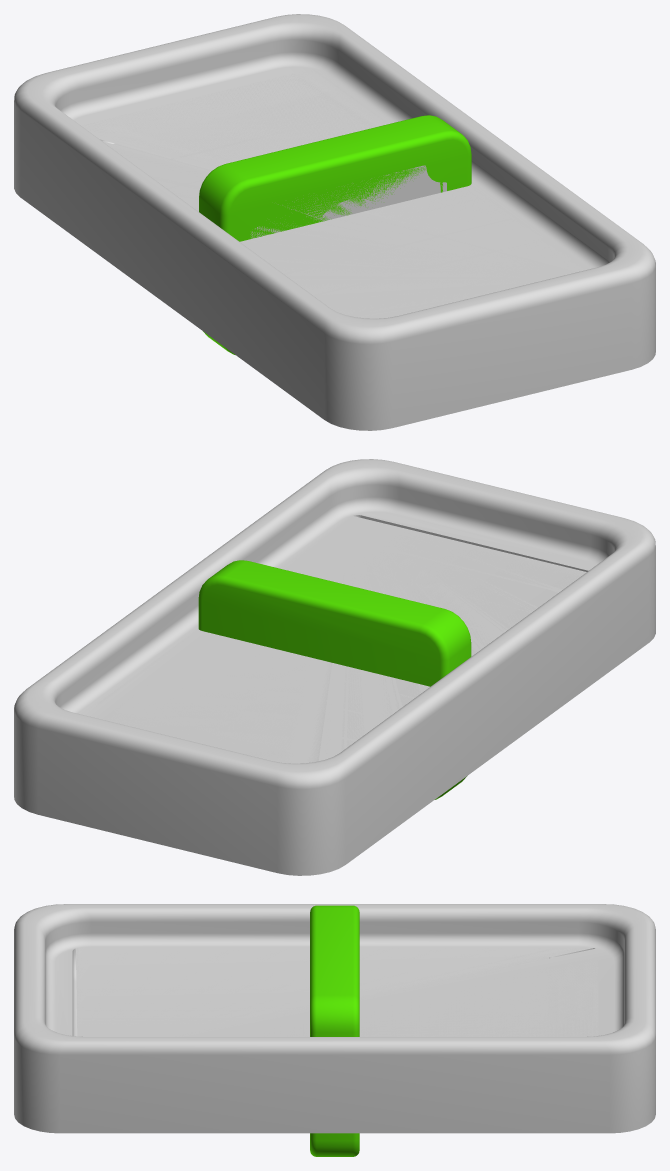
The model's file is MoneySort.fbx.
The picture shows the model from 3 angles, top to bottom: view 1: azimuth 30°, elevation 25°; view 2: azimuth 150°, elevation 25°; view 3: azimuth 270°, elevation 25°; orthographic projection. The views are drawn at different scales.
Parts seen in each view (by area): view 1: Cart, Cash, Sticker; view 2: Cart, Cash; view 3: Cart, Cash.
Part boxes in pixels (box(x1,y1,x2,y2)): Cart: box(14, 14, 655, 430); Cash: box(199, 115, 471, 354); Sticker: box(250, 165, 446, 238); Cart: box(14, 459, 655, 875); Cash: box(198, 560, 471, 799); Cart: box(14, 904, 655, 1133); Cash: box(310, 905, 359, 1156).
Size of the model in its own units: 3.31 by 1.71 by 6.25.
